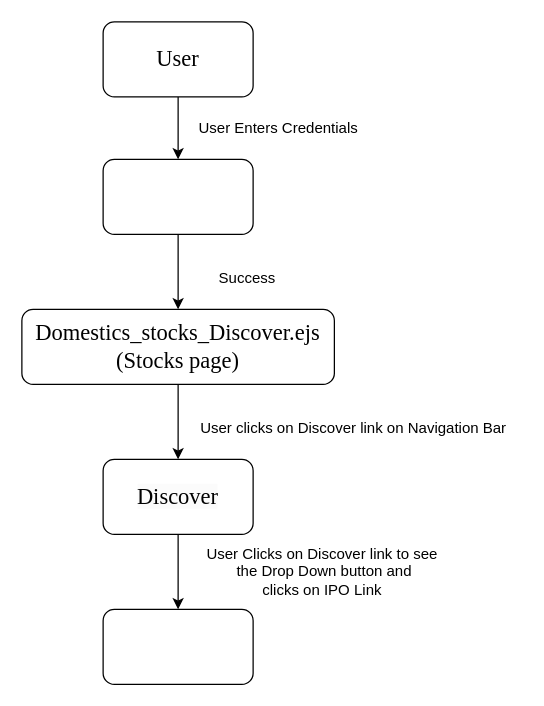
This 544x706 diagram has some shape labels left out. The shapes that lost their labels are listed below. From the top down, each one's box as (x1, y1, x2, y2) in pixels, then its label:
(102, 158, 253, 234): Login
(102, 608, 253, 684): IPO
